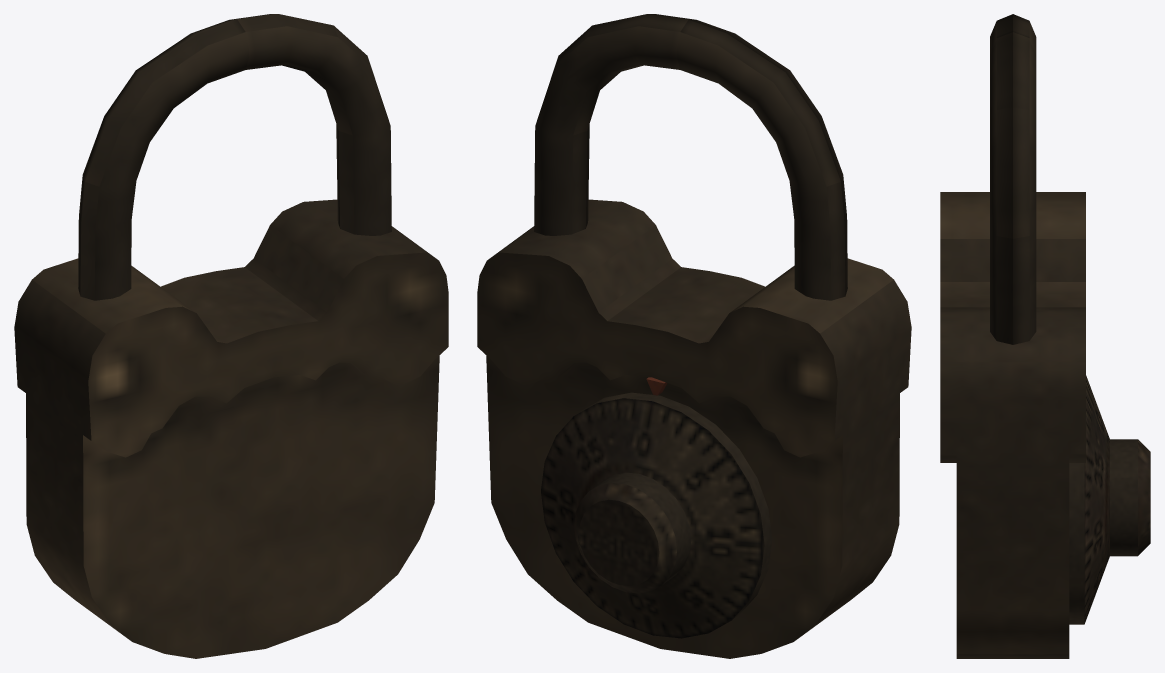
Rendered from padlock_3.obj.
3 renders of one model, left to right at view 1: azimuth 30°, elevation 25°; view 2: azimuth 150°, elevation 25°; view 3: azimuth 270°, elevation 25°, orthographic.
Parts seen in each view (by area): view 1: padlock_3; view 2: padlock_3, knob_2; view 3: padlock_3, knob_2.
Boxes of the visible parts, x1,y1,x2,y2 form: padlock_3: (14, 14, 448, 658); padlock_3: (477, 14, 911, 658); knob_2: (541, 392, 772, 638); padlock_3: (940, 14, 1085, 658); knob_2: (1069, 375, 1150, 624).
Size of the model in its own units: 0.0805 by 0.1299 by 0.0413.
